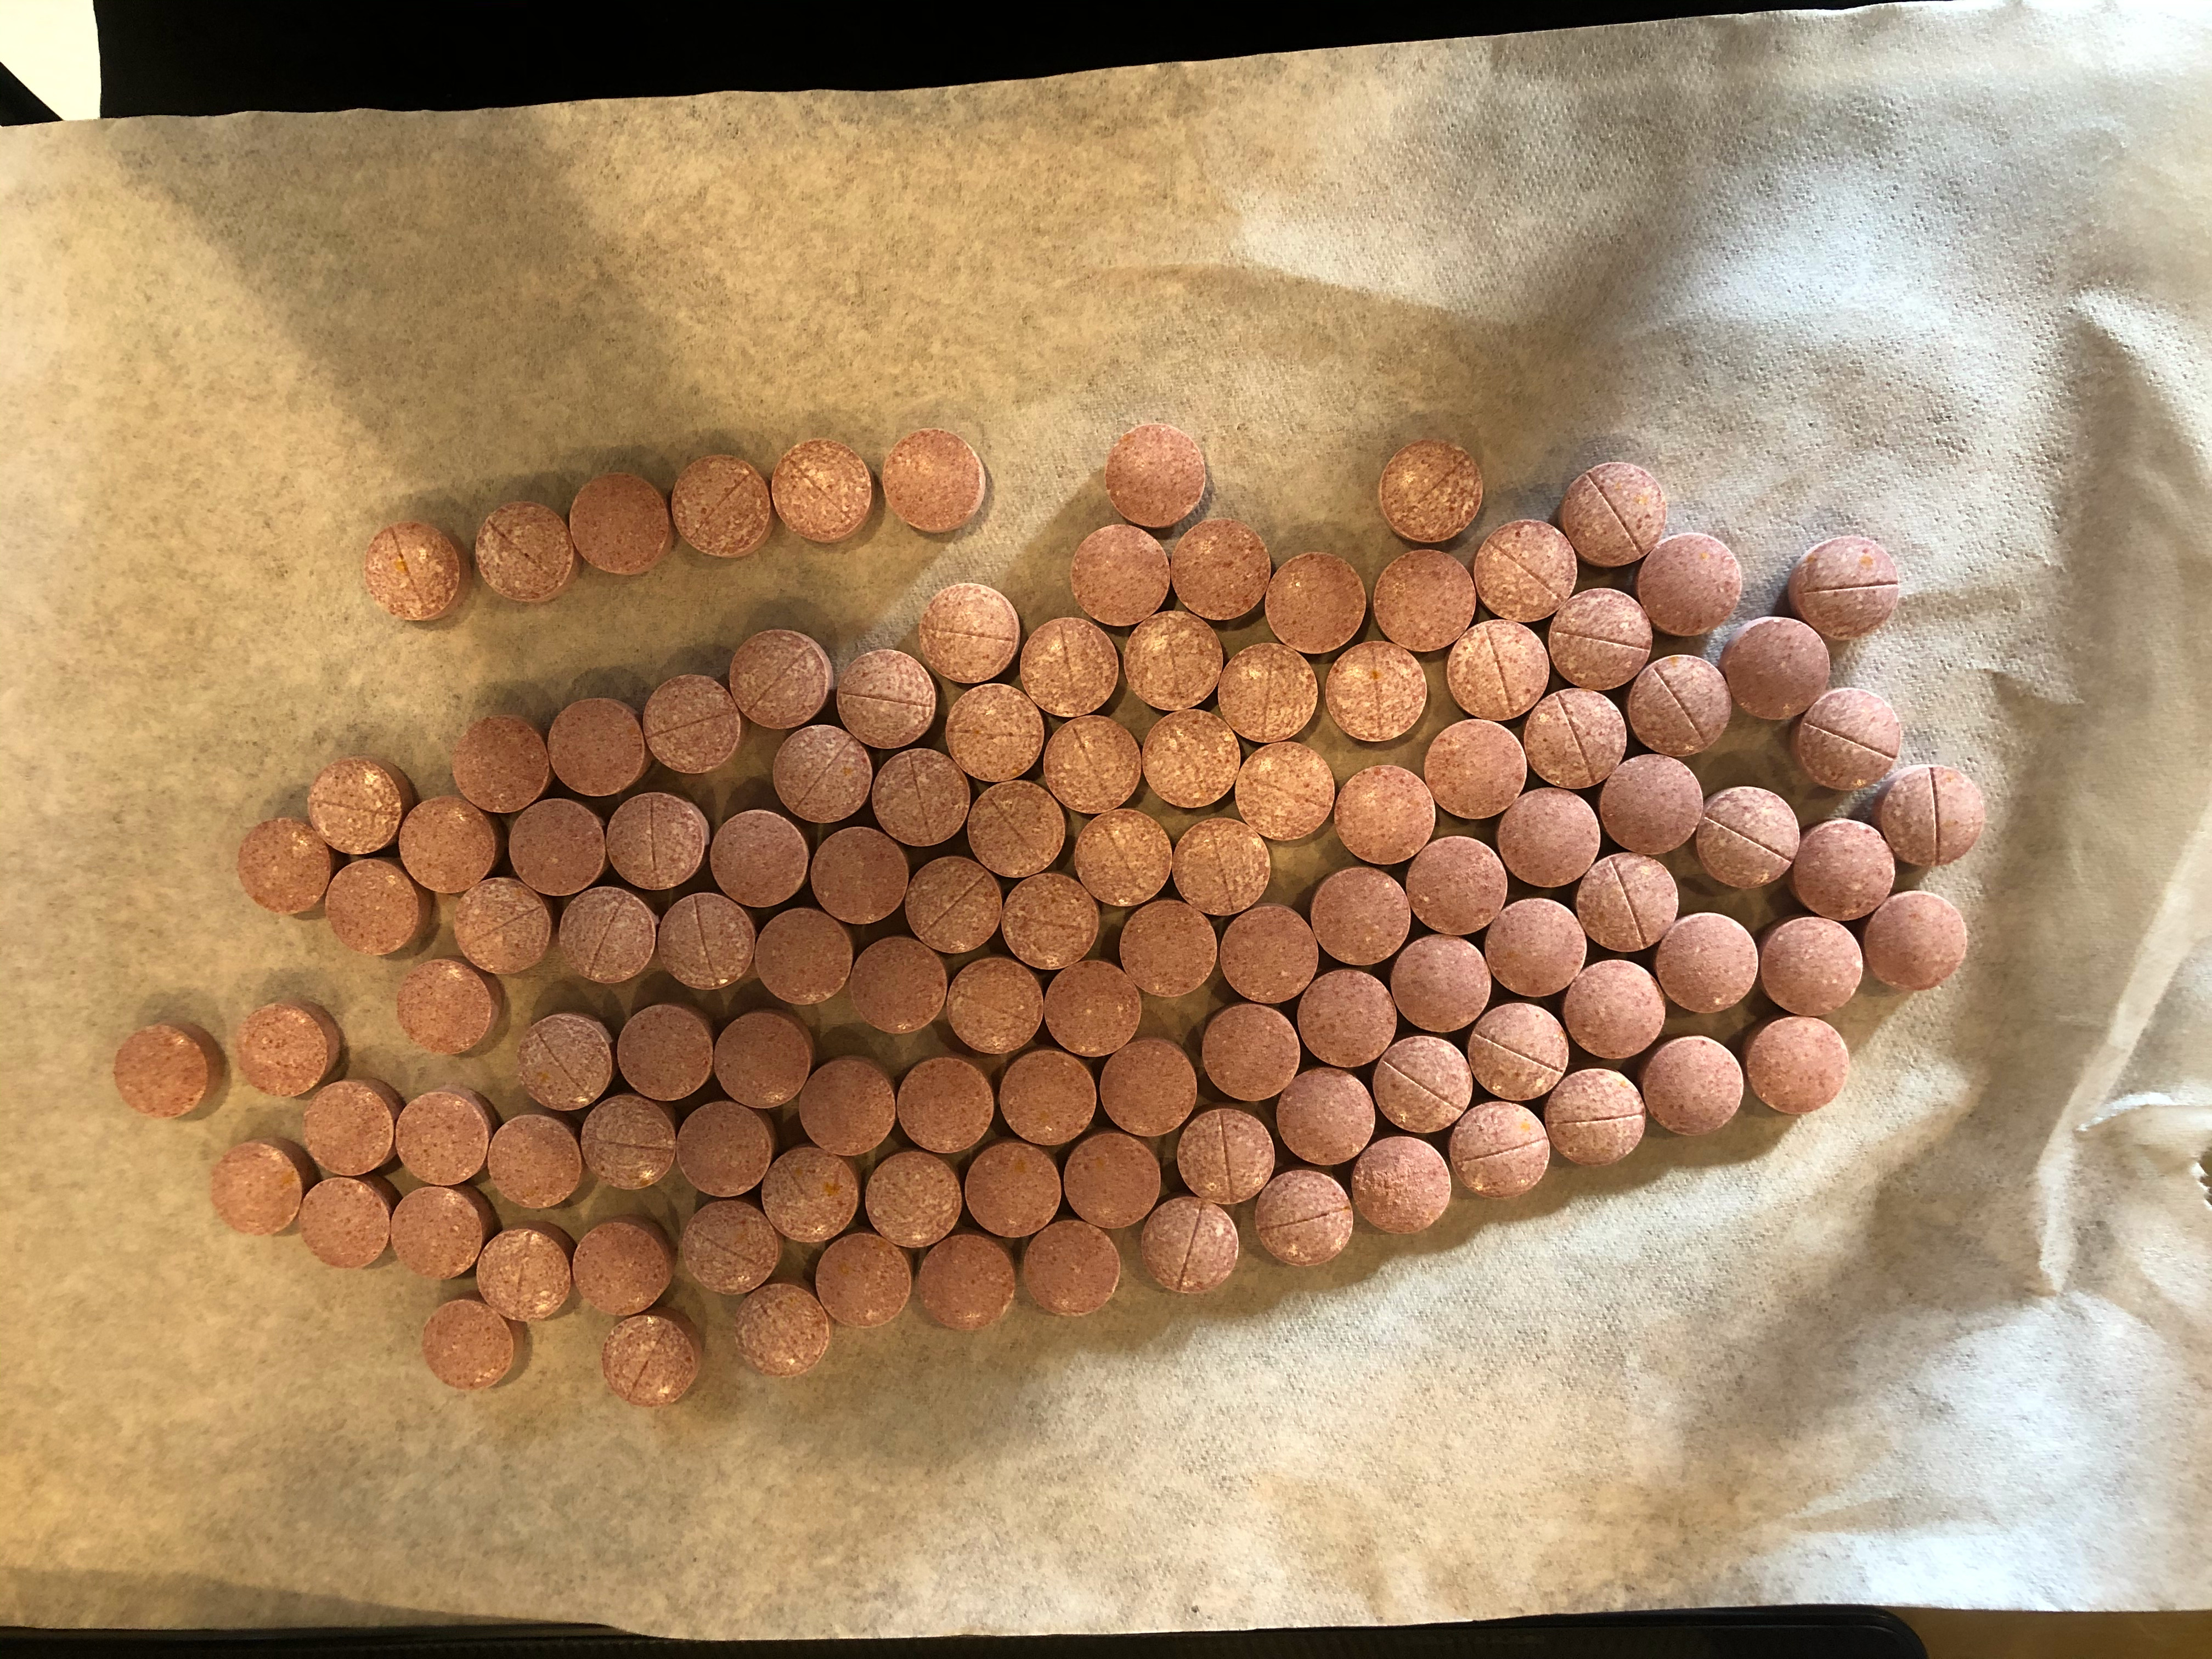tablet: (108, 1016, 232, 1122), (1874, 760, 1991, 871), (1592, 751, 1705, 864), (1789, 687, 1905, 795), (1787, 535, 1900, 645), (937, 678, 1054, 784), (1559, 457, 1670, 566), (1372, 542, 1480, 655), (664, 451, 775, 559), (1519, 687, 1630, 795), (568, 469, 676, 579), (702, 803, 810, 913), (1691, 784, 1799, 894), (1635, 530, 1745, 638), (1261, 544, 1367, 655), (362, 519, 470, 627), (768, 437, 876, 545), (883, 427, 991, 535), (1331, 760, 1439, 868), (1785, 819, 1893, 927), (1231, 739, 1338, 849), (1575, 847, 1684, 953), (1723, 617, 1832, 723), (1374, 437, 1487, 540), (1057, 1127, 1165, 1234), (916, 580, 1022, 688), (1139, 708, 1245, 816), (1541, 1066, 1649, 1173), (1545, 587, 1653, 694), (237, 997, 347, 1101), (1486, 894, 1590, 1004), (1446, 1098, 1557, 1201), (1474, 516, 1576, 627), (303, 756, 416, 857), (1498, 784, 1604, 890), (902, 850, 1007, 958), (1864, 890, 1972, 995), (831, 647, 941, 749), (1559, 960, 1670, 1061), (1103, 422, 1207, 528), (867, 746, 974, 850), (944, 953, 1047, 1061), (1463, 1000, 1571, 1103), (1217, 638, 1320, 746), (1066, 809, 1176, 910), (1369, 1035, 1480, 1134), (449, 713, 554, 817), (749, 906, 853, 1011), (1352, 1134, 1456, 1239), (232, 814, 334, 920), (712, 1006, 815, 1112), (1068, 523, 1170, 629), (1390, 931, 1493, 1037), (1324, 640, 1426, 746), (1402, 835, 1508, 938), (674, 1195, 782, 1297), (543, 694, 651, 795), (1019, 1220, 1127, 1321), (207, 1136, 317, 1236), (395, 793, 498, 897), (512, 1009, 617, 1112), (653, 892, 756, 997), (639, 671, 742, 775), (808, 826, 911, 931), (1169, 814, 1273, 917), (1308, 864, 1413, 967), (477, 498, 578, 605), (571, 1216, 678, 1317), (556, 884, 657, 990), (603, 791, 709, 892), (723, 626, 831, 725), (1292, 971, 1400, 1070), (1646, 1035, 1745, 1143), (1421, 720, 1529, 819), (1444, 617, 1552, 716), (1634, 653, 1733, 762), (610, 1002, 712, 1105), (1116, 897, 1219, 1000), (1656, 913, 1759, 1016), (796, 1056, 897, 1161), (768, 721, 873, 823), (1017, 617, 1122, 718), (481, 1114, 587, 1213), (472, 1223, 578, 1323), (961, 1140, 1068, 1239), (1137, 1195, 1244, 1295), (961, 779, 1068, 878), (897, 1051, 995, 1159), (1251, 1171, 1359, 1269), (395, 960, 507, 1054), (507, 798, 608, 901), (812, 1232, 913, 1335), (1001, 870, 1103, 972), (1170, 518, 1271, 620), (1122, 608, 1224, 709), (726, 1281, 831, 1380), (1045, 960, 1144, 1065), (1745, 1014, 1850, 1114), (1759, 917, 1864, 1016), (387, 1185, 493, 1283), (575, 1094, 681, 1192), (993, 1051, 1099, 1148), (1172, 1107, 1278, 1204), (415, 1297, 524, 1391), (322, 859, 432, 953), (453, 878, 554, 979), (846, 936, 948, 1037), (1198, 1004, 1301, 1103), (909, 1236, 1014, 1333), (392, 1087, 493, 1187), (676, 1101, 773, 1204), (1101, 1037, 1198, 1140), (1042, 714, 1144, 812), (1275, 1065, 1378, 1162), (599, 1310, 704, 1406), (1223, 903, 1322, 1002), (867, 1147, 965, 1248), (759, 1145, 862, 1241), (296, 1176, 397, 1272), (303, 1079, 399, 1180)
